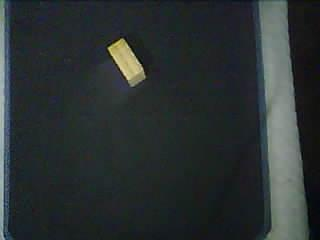lego: (105, 37, 147, 88)
